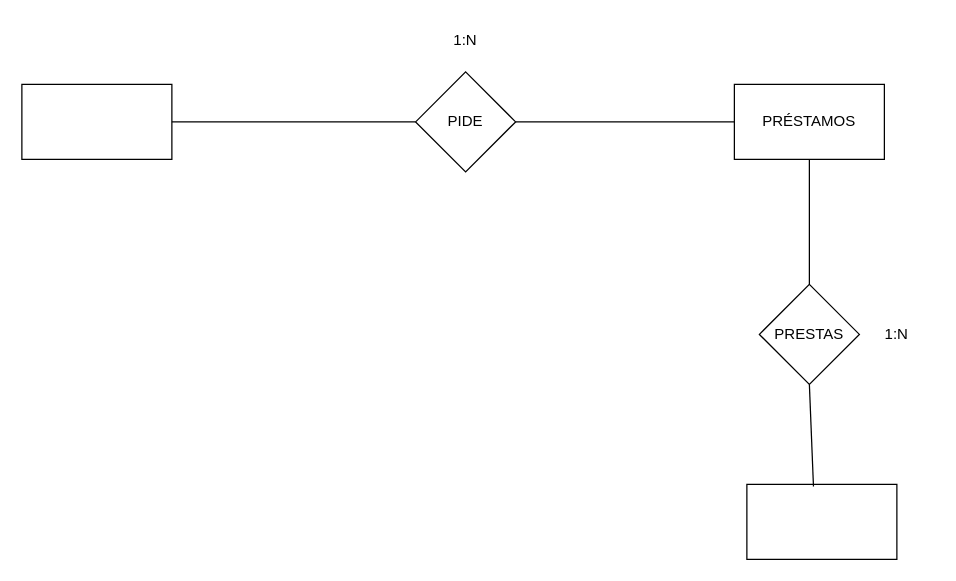
This 956x581 diagram has some shape labels left out. Each missing label, with the centre of its shape:
LIBROS: the point at 821,521
USUARIO: the point at 96,121
